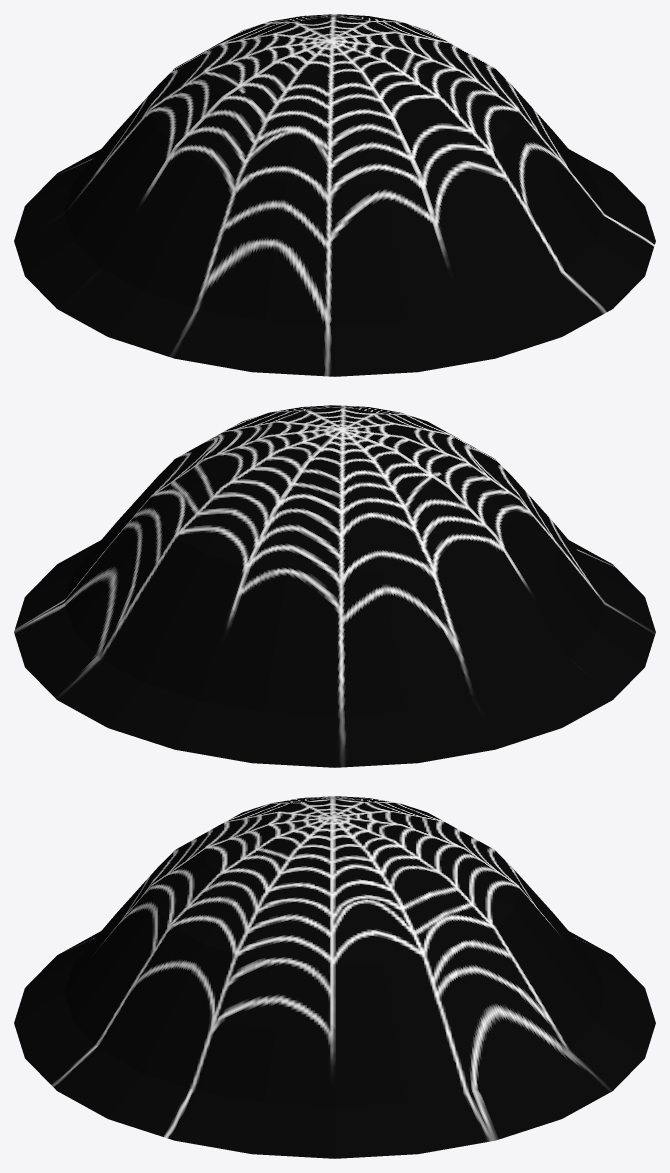
Rendered from 0459_wang.glb.
3 renders of one model, top to bottom at view 1: azimuth 30°, elevation 25°; view 2: azimuth 150°, elevation 25°; view 3: azimuth 270°, elevation 25°, orthographic.
Bounding box in the file's own units: 2.2 × 0.7696 × 2.2.
Materials: 1 (1 with a texture image).
